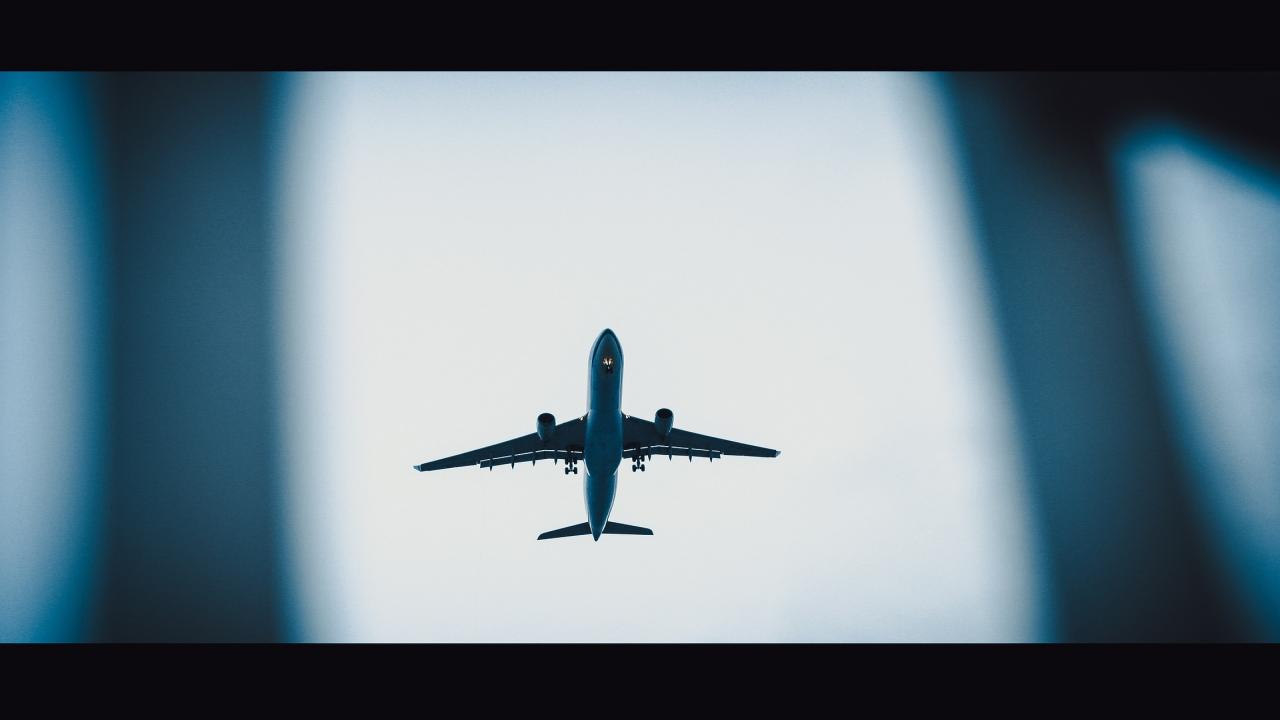Airplane: (403, 319, 791, 548)
